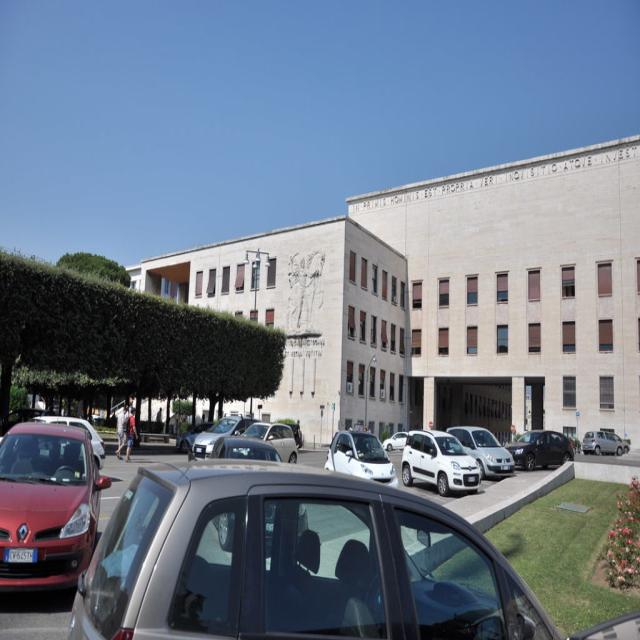car: (400, 431, 480, 494), (580, 429, 622, 457)
